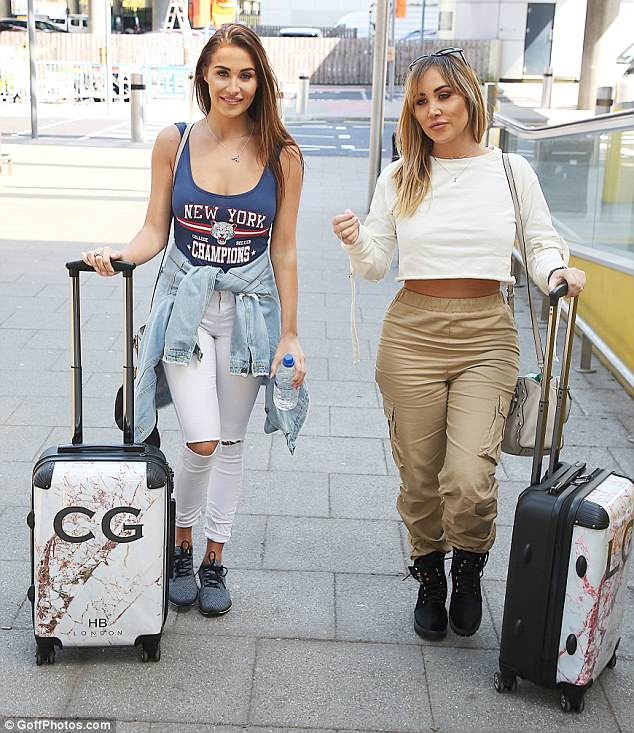Person: (331, 47, 586, 643), (81, 24, 307, 615)
